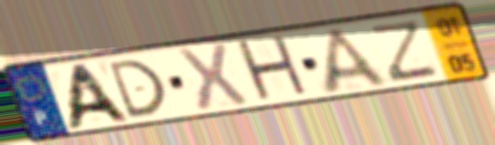A: (321, 25, 395, 97), (62, 60, 135, 132)
D: (104, 57, 171, 122)
H: (232, 33, 314, 106)
X: (172, 41, 252, 115)
Z: (369, 17, 440, 84)
